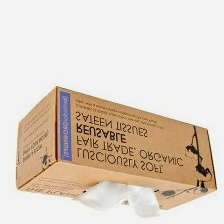book: (10, 81, 222, 213)
tissue: (66, 175, 168, 224)
